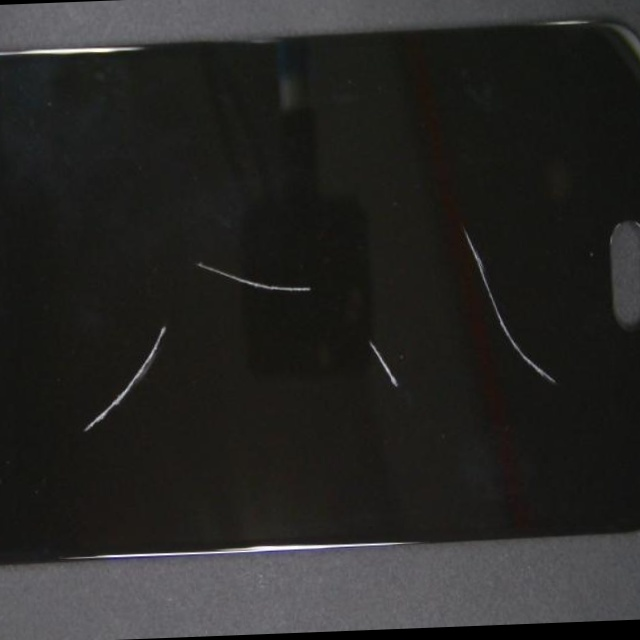scratch: (161, 72, 640, 520), (193, 203, 640, 548), (183, 142, 467, 403), (81, 81, 236, 512)
